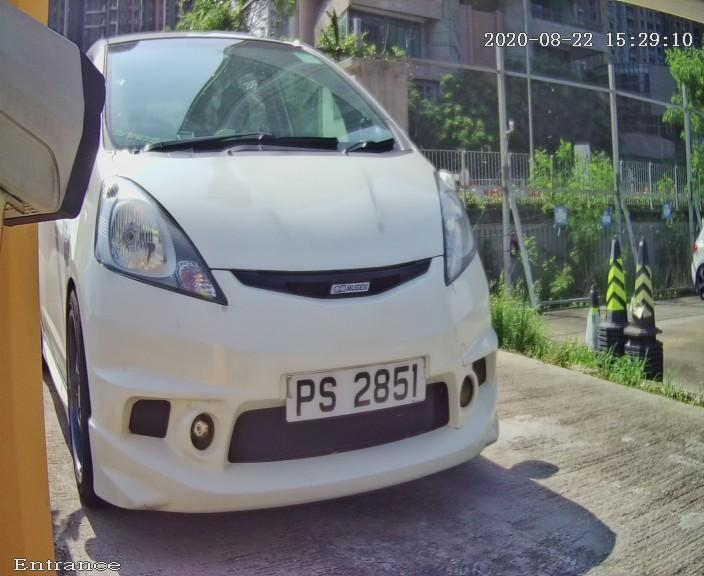Car: (10, 3, 544, 564)
License Plate: (258, 336, 461, 431)
